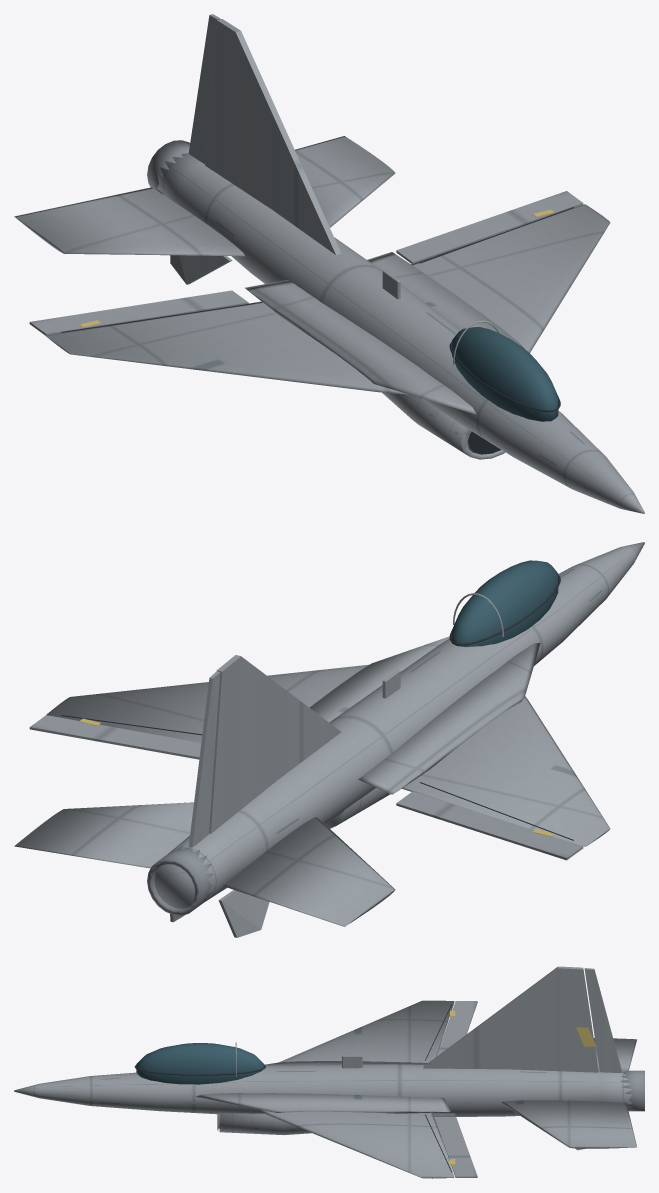
3 views of the same model, one above another, from view 1: azimuth 30°, elevation 25°; view 2: azimuth 150°, elevation 25°; view 3: azimuth 270°, elevation 25° (orthographic). The views are drawn at different scales.
Parts seen in each view (by area): view 1: airframe_static, tailplane_L, canopy, tailplane_R, flaperon_R, flaperon_L, rudder_1; view 2: airframe_static, tailplane_L, tailplane_R, canopy, flaperon_L, flaperon_R, rudder_1; view 3: airframe_static, tailplane_R, canopy, rudder_1, flaperon_R, flaperon_L, tailplane_L.
Boxes of the visible parts, x1,y1,x2,y2 form: airframe_static: [46, 19, 644, 513]; tailplane_L: [14, 187, 245, 256]; canopy: [452, 327, 558, 421]; tailplane_R: [295, 136, 395, 227]; flaperon_R: [396, 191, 583, 263]; flaperon_L: [29, 290, 248, 335]; rudder_1: [188, 14, 220, 164]; airframe_static: [46, 542, 644, 937]; tailplane_L: [223, 817, 395, 926]; tailplane_R: [14, 802, 193, 868]; canopy: [452, 560, 558, 646]; flaperon_L: [396, 791, 583, 860]; flaperon_R: [29, 715, 201, 759]; rudder_1: [188, 671, 220, 847]; airframe_static: [14, 966, 644, 1178]; tailplane_R: [500, 1100, 636, 1148]; canopy: [136, 1043, 264, 1084]; rudder_1: [584, 968, 622, 1072]; flaperon_R: [434, 1117, 477, 1177]; flaperon_L: [436, 1001, 477, 1056]; tailplane_L: [593, 1038, 636, 1070].
Size of the model in its own units: 9.8 by 4.42 by 14.8.
Materials: 5 (1 with a texture image).
